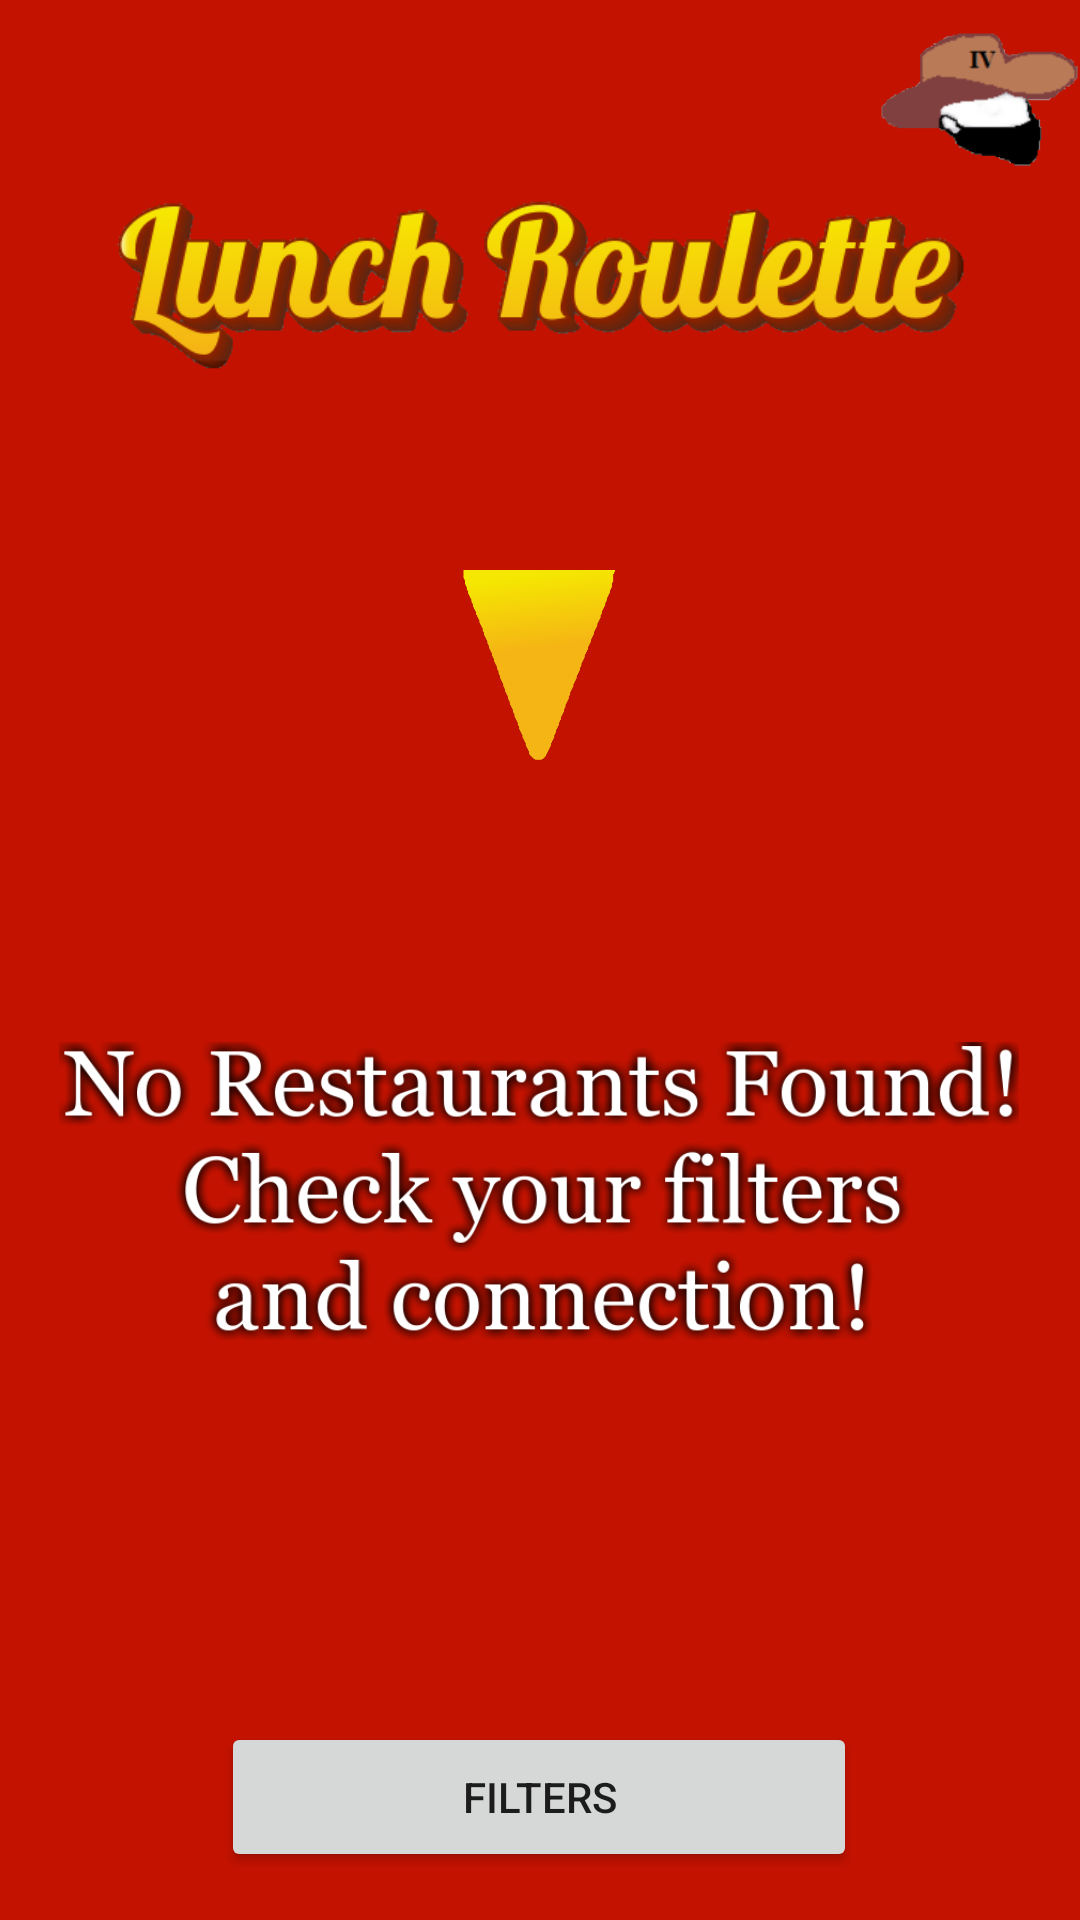

Locate icon controls on the screen. Image size 1080px x 1920px, boxes as [x1, y1, x2, y2].
arrow: [463, 570, 615, 760]
